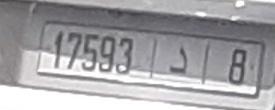1: (53, 29, 64, 70)
3: (116, 37, 134, 75)
5: (82, 33, 100, 71)
7: (66, 32, 82, 70)
8: (227, 48, 248, 86)
9: (99, 35, 116, 73)
d: (168, 44, 188, 75)
